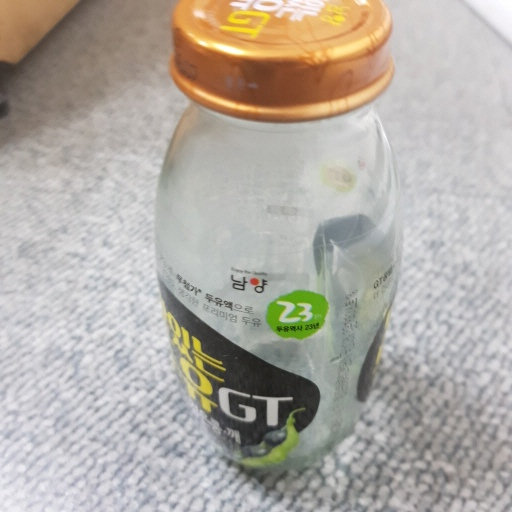Glass_4: (151, 1, 408, 470)
